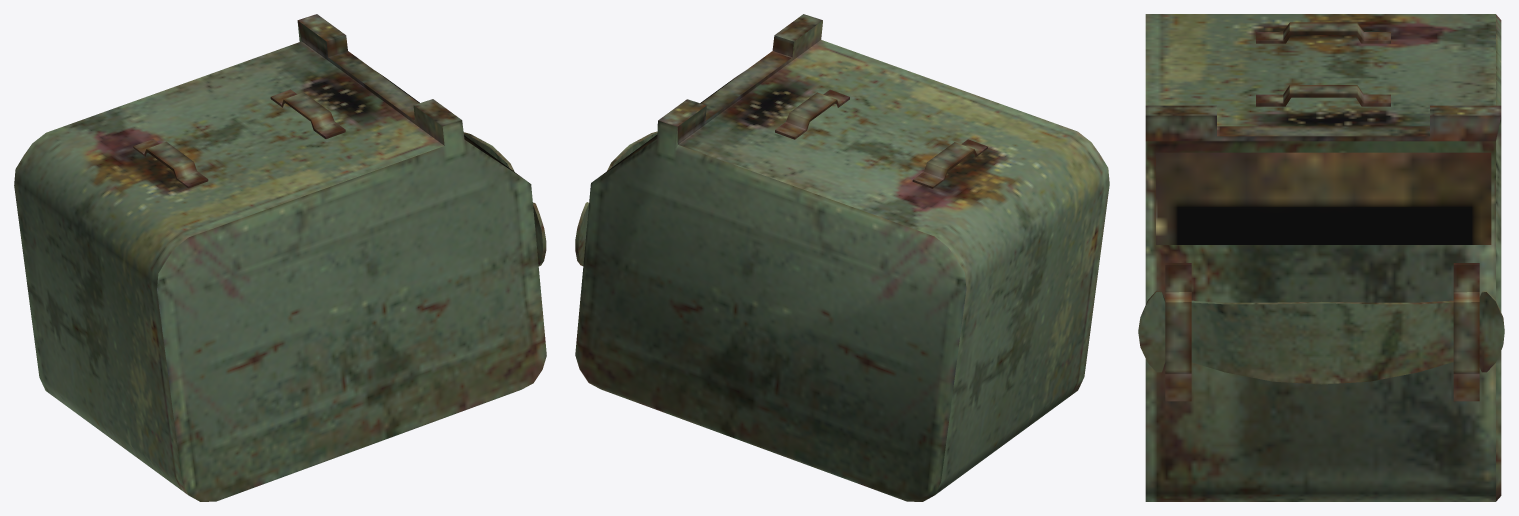
File: mag.obj
3 views of the same model, side by side, from view 1: azimuth 30°, elevation 25°; view 2: azimuth 150°, elevation 25°; view 3: azimuth 270°, elevation 25° (orthographic). The views are drawn at different scales.
Visible parts, largest first — view 1: wpn_dshk; view 2: wpn_dshk; view 3: wpn_dshk.
Boxes of the visible parts, x1,y1,x2,y2 form: wpn_dshk: (14,14,546,501); wpn_dshk: (575,14,1109,501); wpn_dshk: (1138,14,1504,501).
Bounding box in the file's own units: 0.3188 × 0.2372 × 0.2.
1 material, 1 textured.
